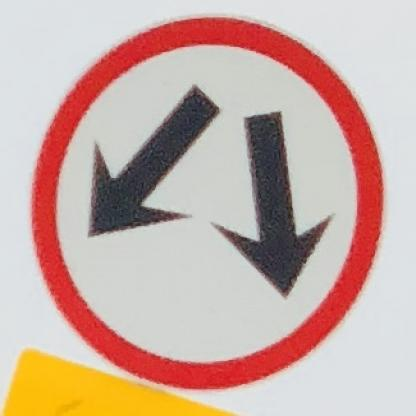Road Divides: (30, 15, 383, 388)
